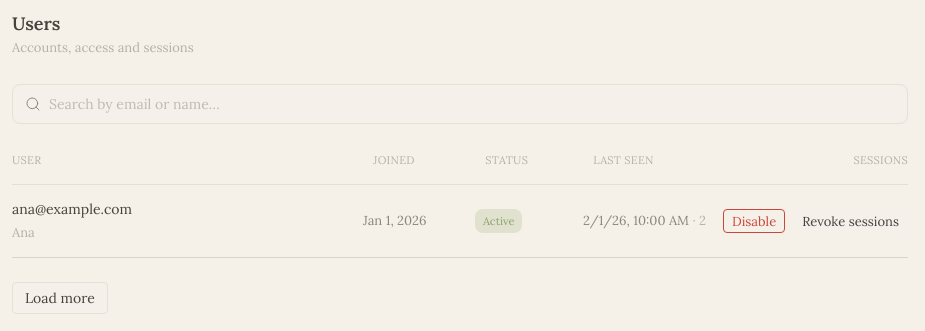
Scenario: AdminUsersPage › fetches the next page from the cursor when Load more is clicked
The width and height of the screenshot is (925, 331).
Click the button "Load more".
click(60, 298)  # box [12, 282, 108, 314]
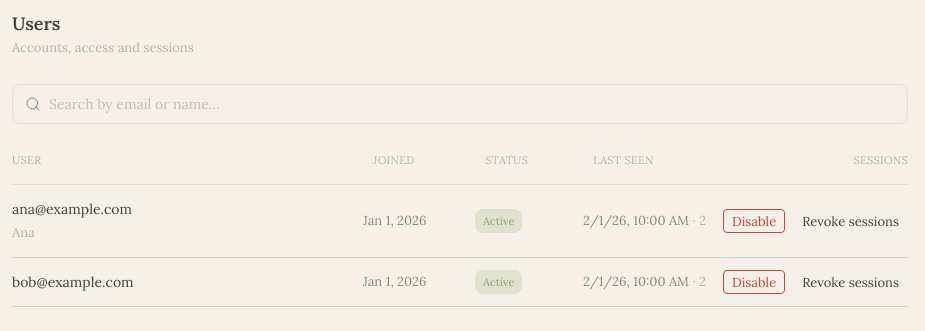
Check: the text "bob@example.com" is shown, box [12, 270, 134, 294]
